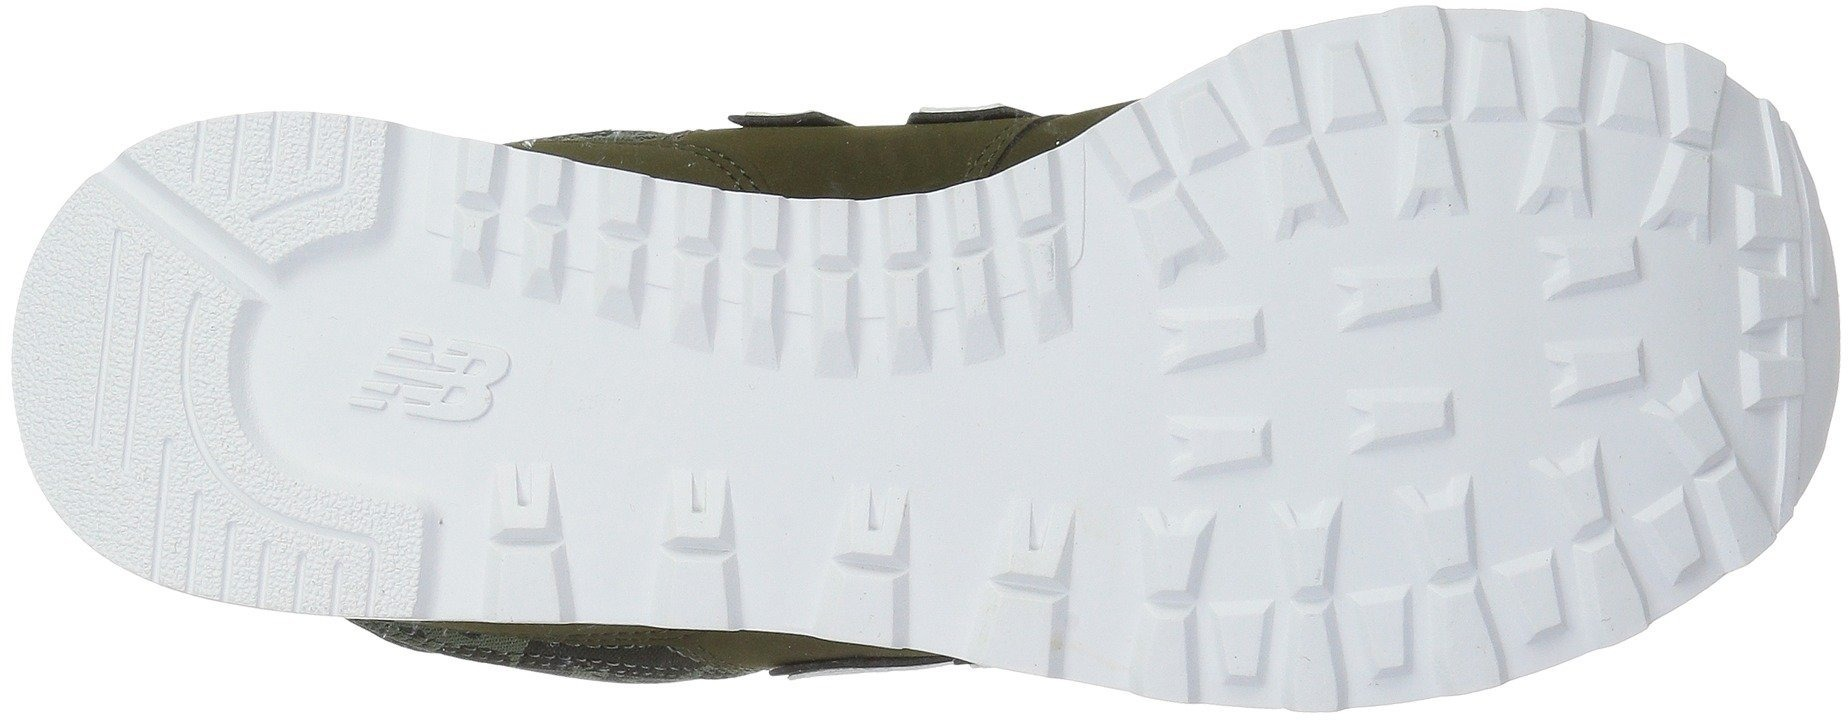quad: (1349, 564, 1440, 701), (1303, 25, 1400, 143)
